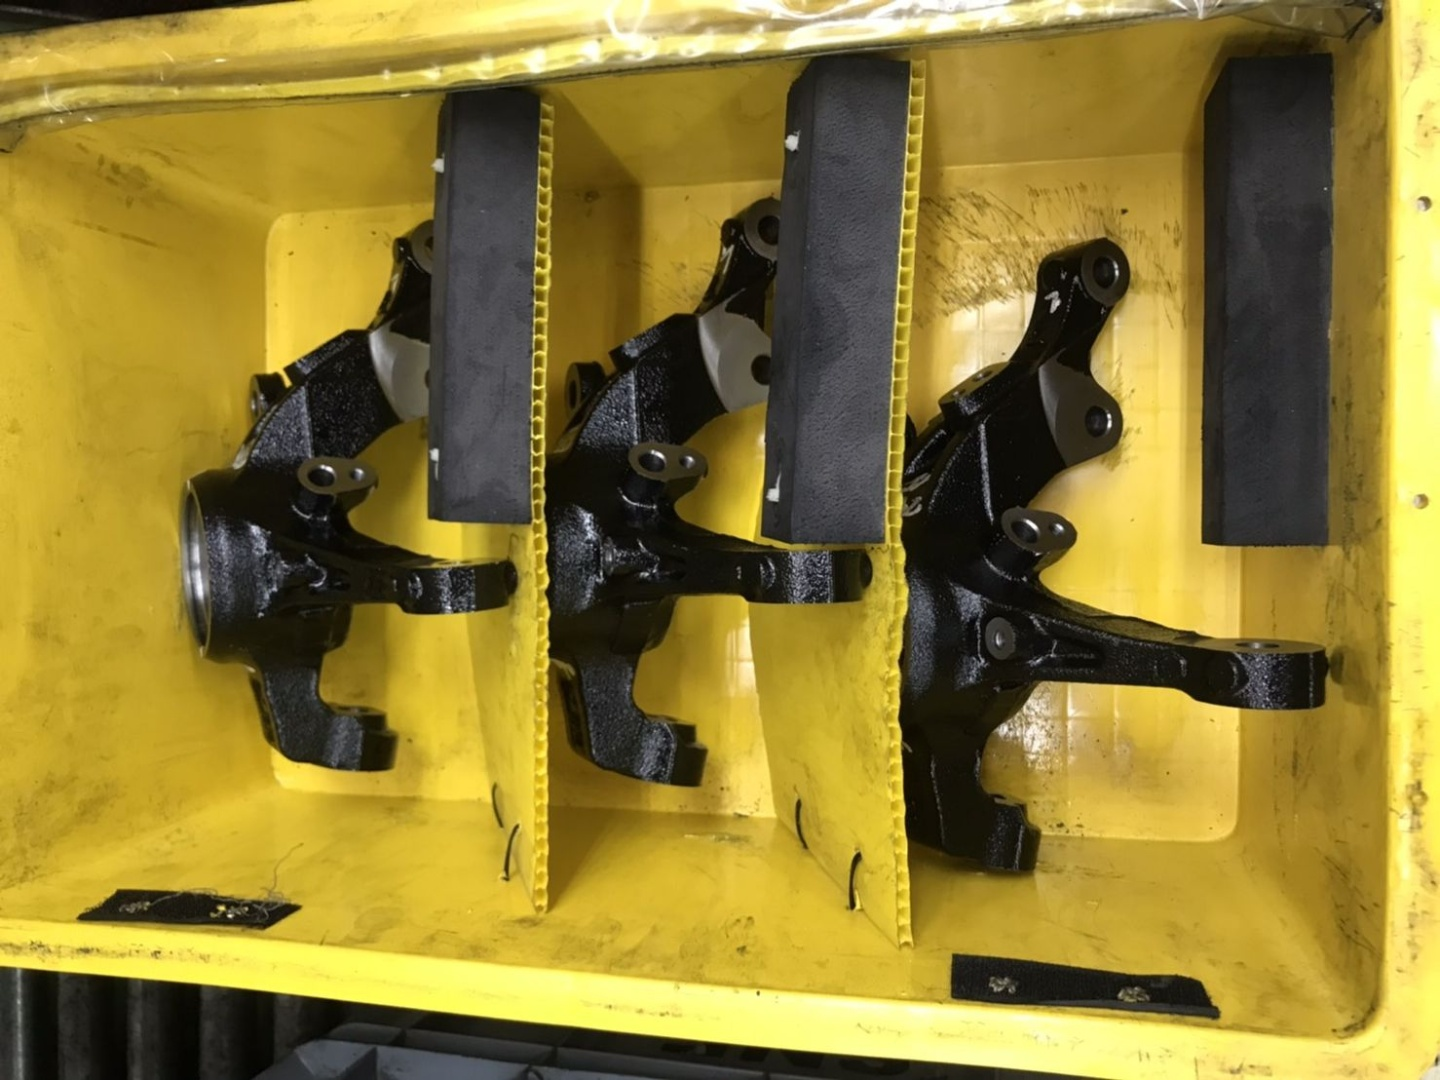abs-lh: (889, 227, 1335, 885), (161, 185, 525, 778), (528, 188, 875, 798)
